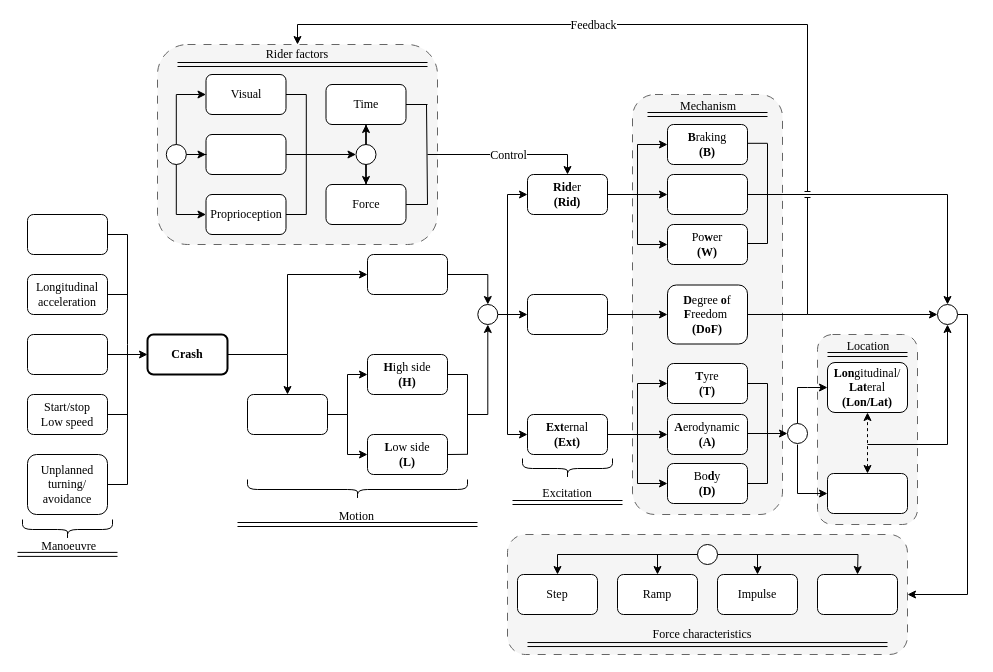
Image size: 993x672. Some labels were removed from this diagram. Each missing label, with the centre of its shape:
"F ront/ R ear (F/R)" goes at point (867, 493).
"I nternal (Int)" goes at point (567, 314).
"P itch-over (P)" goes at point (407, 274).
"Periodic" goes at point (857, 594).
"Roll-over" goes at point (287, 414).
"S teering (S)" goes at point (707, 194).
"Steady/planned cornering" goes at point (67, 354).
"Straight running" goes at point (67, 234).
"Vestibular" goes at point (245, 154).
